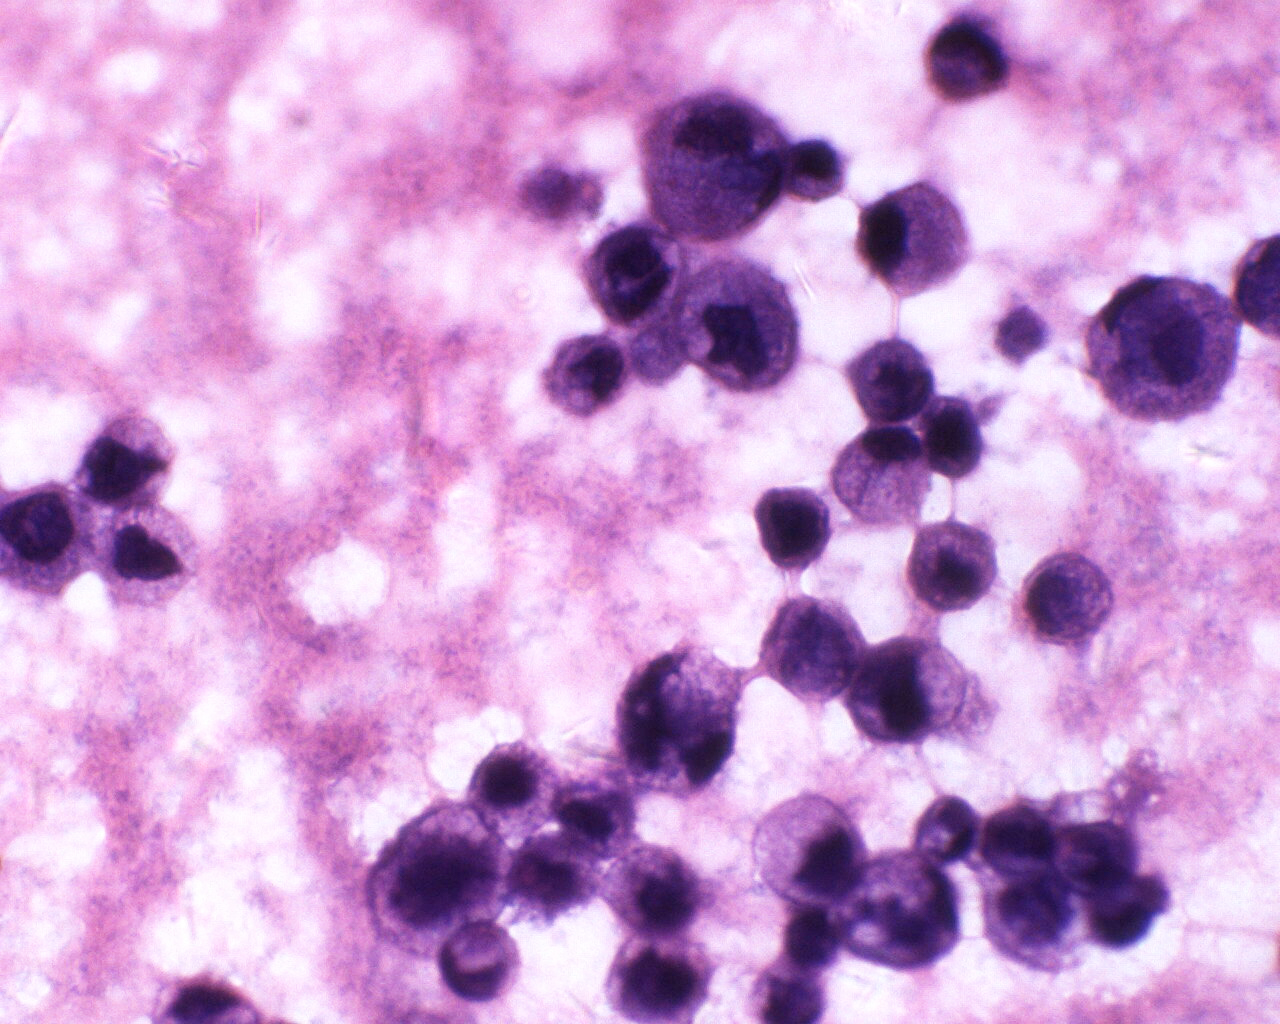ab: (360, 799, 517, 956), (671, 253, 804, 396), (850, 631, 970, 749), (86, 503, 205, 611), (75, 406, 183, 517), (765, 592, 864, 708), (2, 480, 94, 601), (584, 222, 689, 325), (604, 839, 705, 939), (606, 932, 718, 1023), (1020, 546, 1116, 647), (907, 515, 1001, 615), (840, 336, 938, 430), (750, 474, 839, 575), (918, 17, 1013, 108), (545, 329, 626, 418), (979, 800, 1063, 883), (923, 389, 987, 481)
histo: (856, 182, 975, 299), (824, 425, 934, 527)
